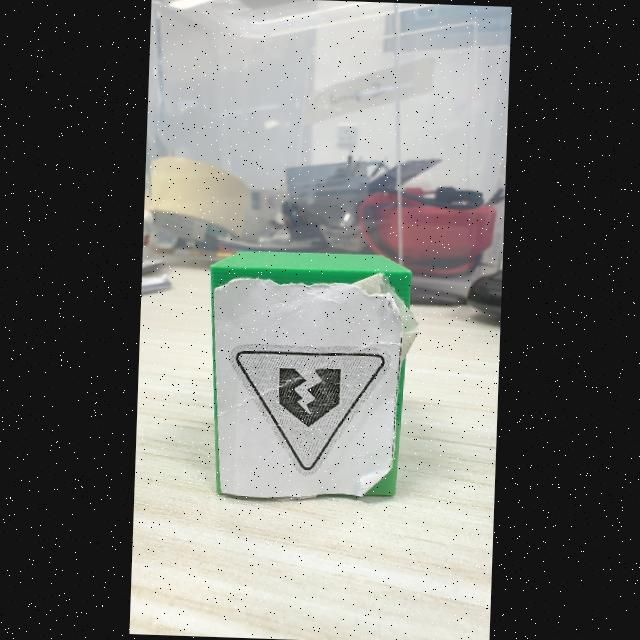Earthquake: (235, 350, 384, 469)
